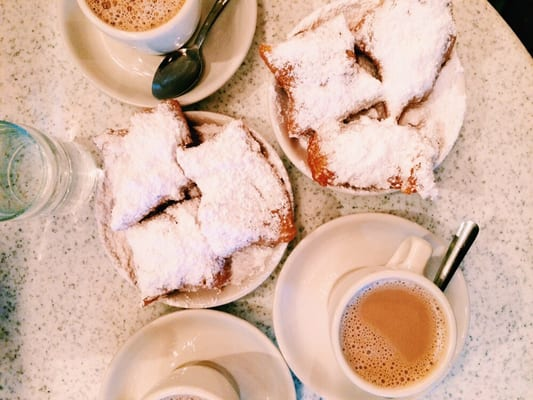pizza: (272, 213, 472, 400)
salad: (151, 0, 234, 102)
sushi: (96, 308, 298, 400), (75, 0, 206, 55)
